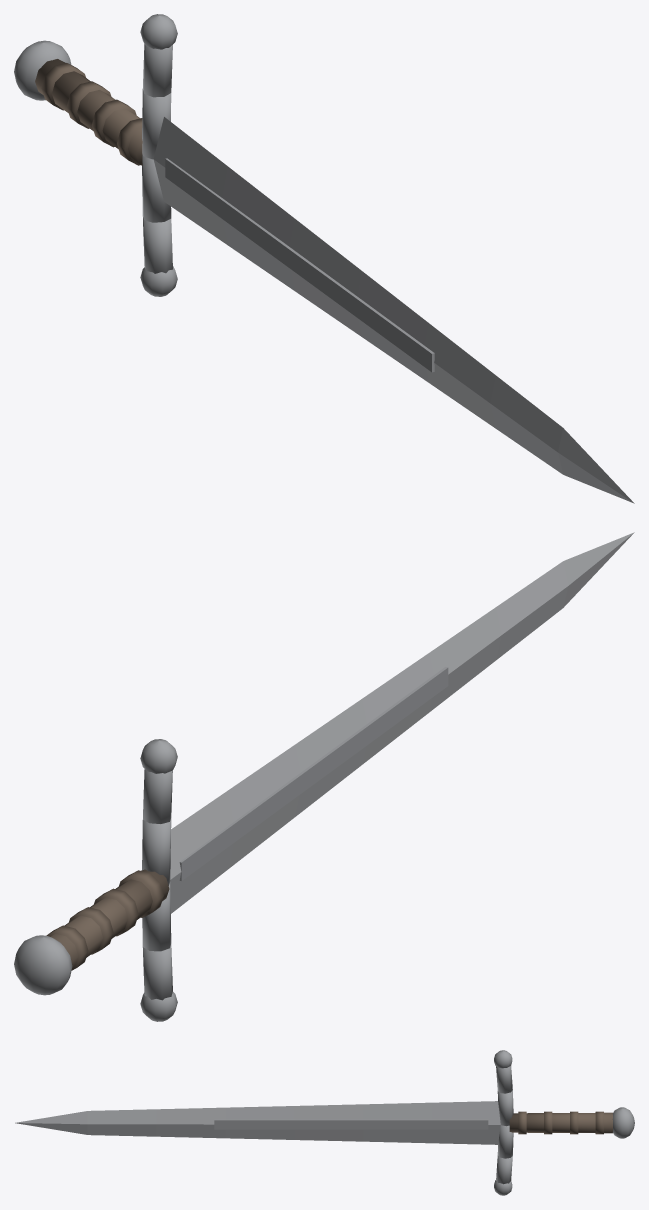
The model's file is Sword.fbx.
3 views of the same model, one above another, from view 1: azimuth 30°, elevation 25°; view 2: azimuth 150°, elevation 25°; view 3: azimuth 270°, elevation 25° (orthographic). The views are drawn at different scales.
Parts seen in each view (by area): view 1: Sword; view 2: Sword; view 3: Sword.
Boxes of the visible parts, box(x1,y1,x2,y2) form: Sword: box(14, 14, 634, 503); Sword: box(14, 532, 634, 1021); Sword: box(15, 1050, 634, 1195).
Size of the model in its own units: 3 by 15.04 by 58.9.
